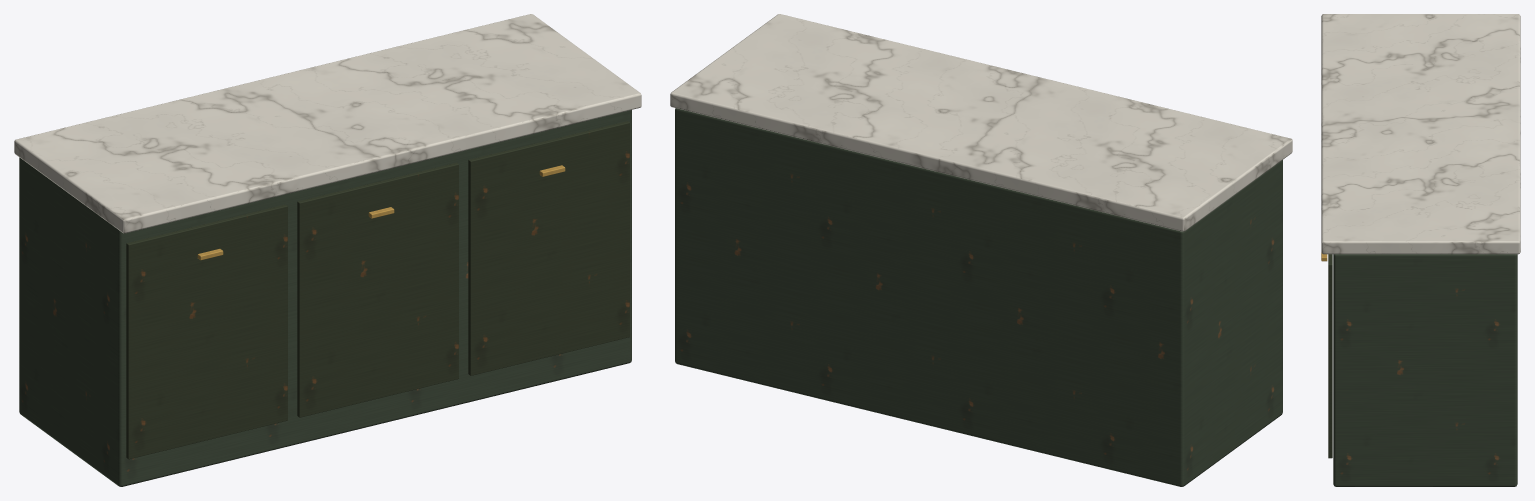
The model's file is kitchenCounter.glb.
3 views of the same model, side by side, from view 1: azimuth 30°, elevation 25°; view 2: azimuth 150°, elevation 25°; view 3: azimuth 270°, elevation 25° (orthographic). The views are drawn at different scales.
Parts seen in each view (by area): view 1: kitchenCounter; view 2: kitchenCounter; view 3: kitchenCounter.
Part boxes in pixels (<box>): kitchenCounter: <box>14,14,641,486</box>; kitchenCounter: <box>670,14,1292,486</box>; kitchenCounter: <box>1321,14,1520,486</box>.
Bounding box in the file's own units: 1.82 × 0.9201 × 0.6703.
Materials: 4 (4 with a texture image).
